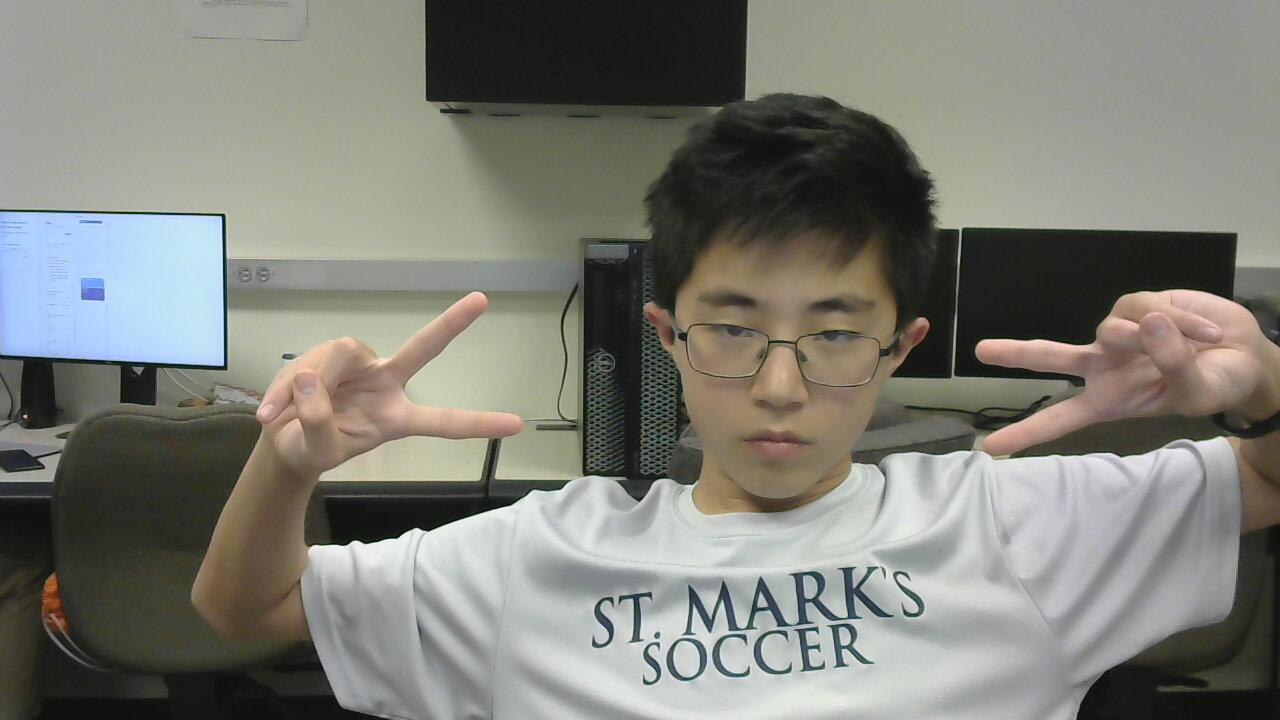peace: (238, 287, 554, 498), (961, 292, 1279, 480)
